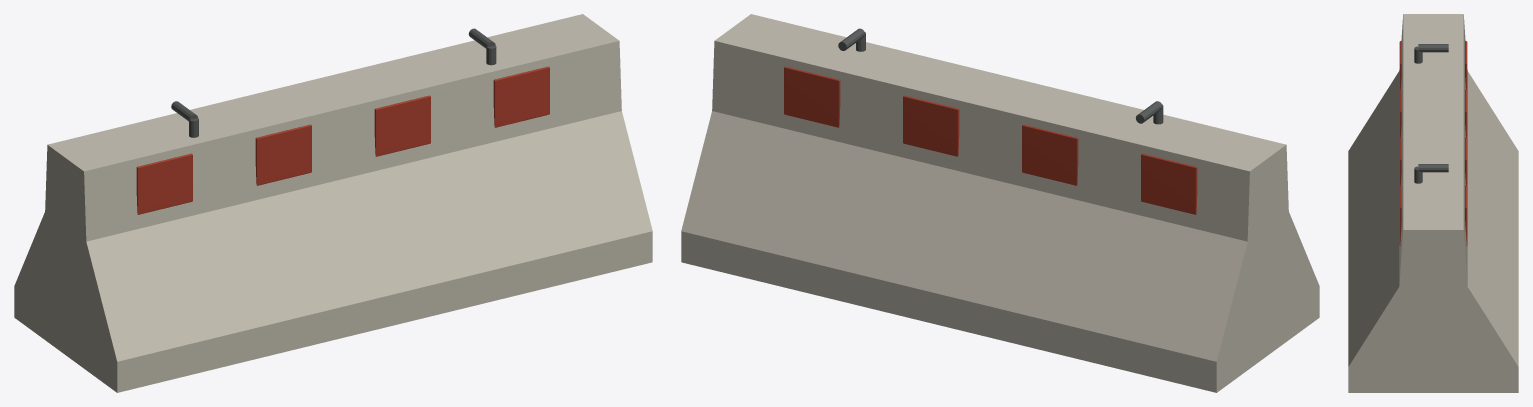
File: Barrier.fbx
3 renders of one model, left to right at view 1: azimuth 30°, elevation 25°; view 2: azimuth 150°, elevation 25°; view 3: azimuth 270°, elevation 25°, orthographic. The views are drawn at different scales.
Parts seen in each view (by area): view 1: Barrier; view 2: Barrier; view 3: Barrier.
Part boxes in pixels (x1=…): Barrier: x1=14, y1=14, x2=652, y2=392; Barrier: x1=681, y1=14, x2=1319, y2=392; Barrier: x1=1348, y1=14, x2=1518, y2=392.
Bounding box in the file's own units: 2.7 × 1.05 × 0.9.
